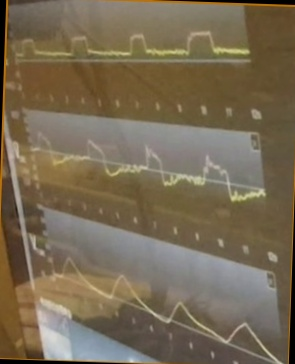Accumulation Flow: (31, 129, 264, 203)
Volume: (53, 256, 279, 361)
